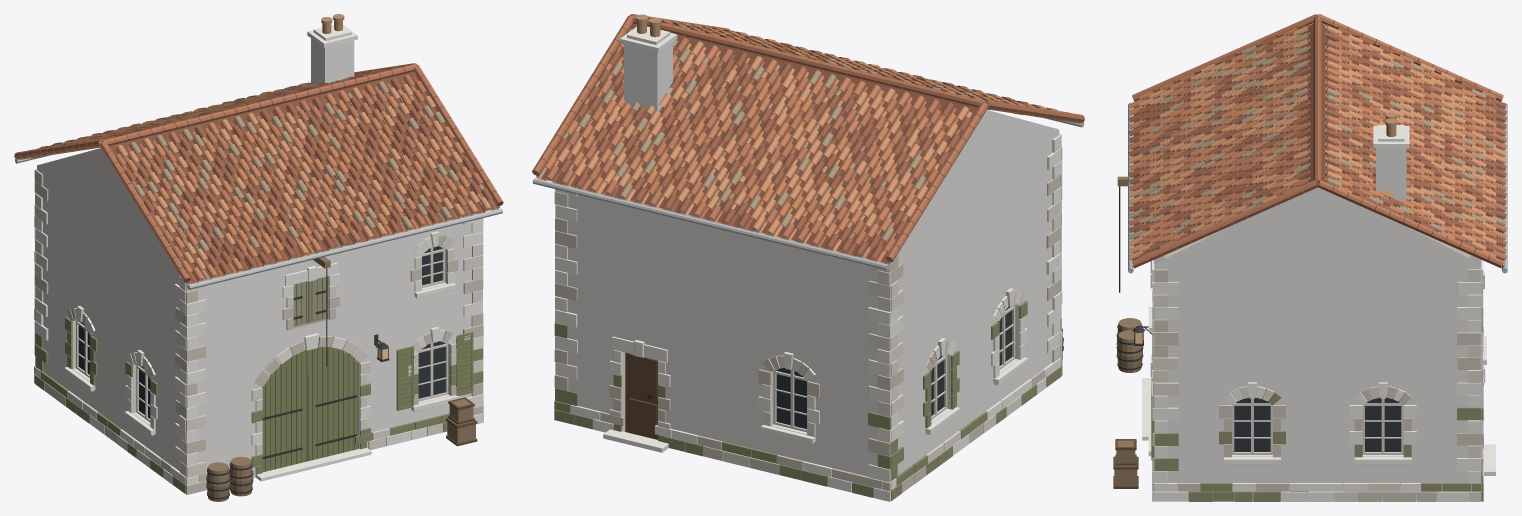
The model's file is Workshop.fbx.
3 views of the same model, side by side, from view 1: azimuth 30°, elevation 25°; view 2: azimuth 150°, elevation 25°; view 3: azimuth 270°, elevation 25° (orthographic). The views are drawn at different scales.
Parts seen in each view (by area): view 1: Workshop; view 2: Workshop; view 3: Workshop.
Boxes of the visible parts, x1,y1,x2,y2 form: Workshop: (14,14,503,501); Workshop: (532,14,1084,501); Workshop: (1113,14,1507,501).
Bounding box in the file's own units: 9.8 × 9.79 × 9.66.
